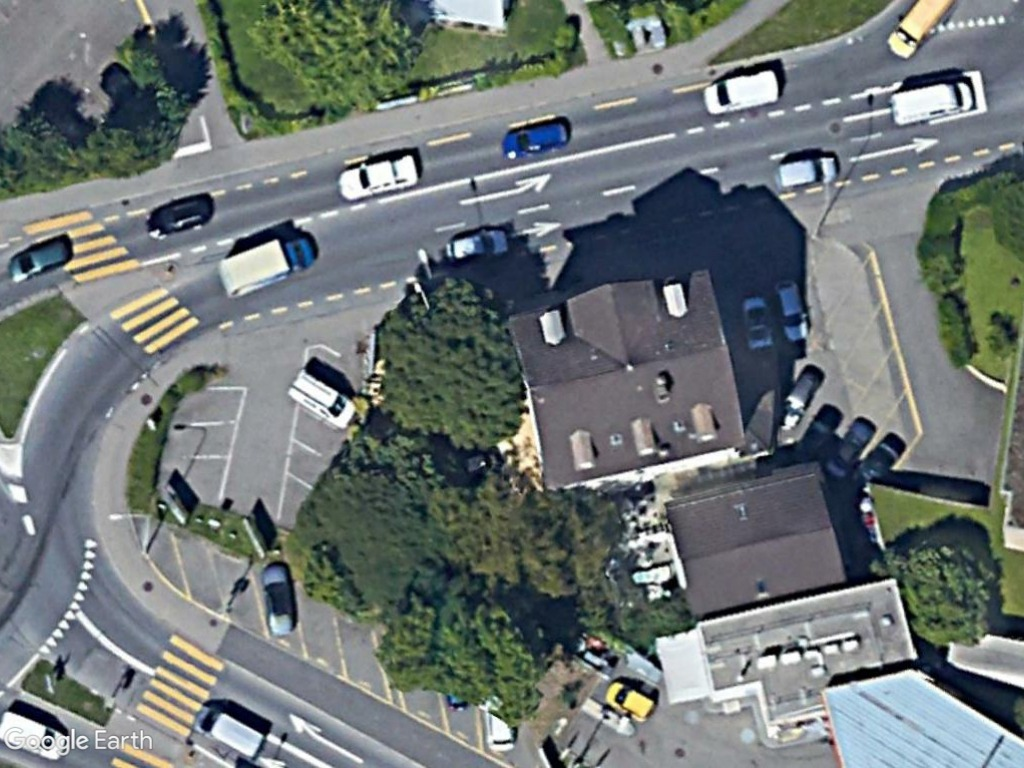car: (333, 150, 424, 204), (5, 234, 74, 285), (499, 118, 571, 164), (772, 274, 813, 347), (772, 150, 840, 194), (441, 226, 513, 267), (602, 676, 659, 725)
truck: (213, 231, 319, 301)
van: (189, 702, 267, 763), (288, 370, 360, 434), (887, 79, 975, 129), (701, 67, 784, 117)
